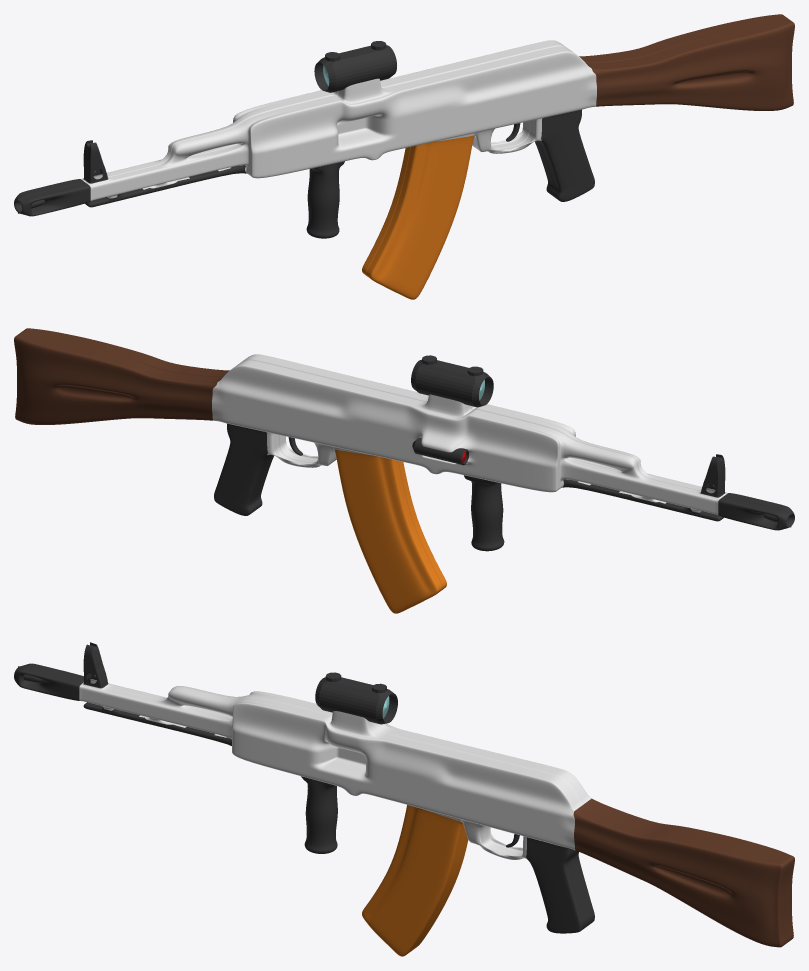
3 views of the same model, one above another, from view 1: azimuth 30°, elevation 25°; view 2: azimuth 150°, elevation 25°; view 3: azimuth 330°, elevation 25° (orthographic).
Parts seen in each view (by area): view 1: Laser_tac; view 2: Laser_tac; view 3: Laser_tac.
Boxes of the visible parts, x1,y1,x2,y2 form: Laser_tac: [14, 14, 794, 299]; Laser_tac: [14, 328, 794, 613]; Laser_tac: [14, 642, 794, 956].
Size of the model in its own units: 371 by 119 by 26.51.
